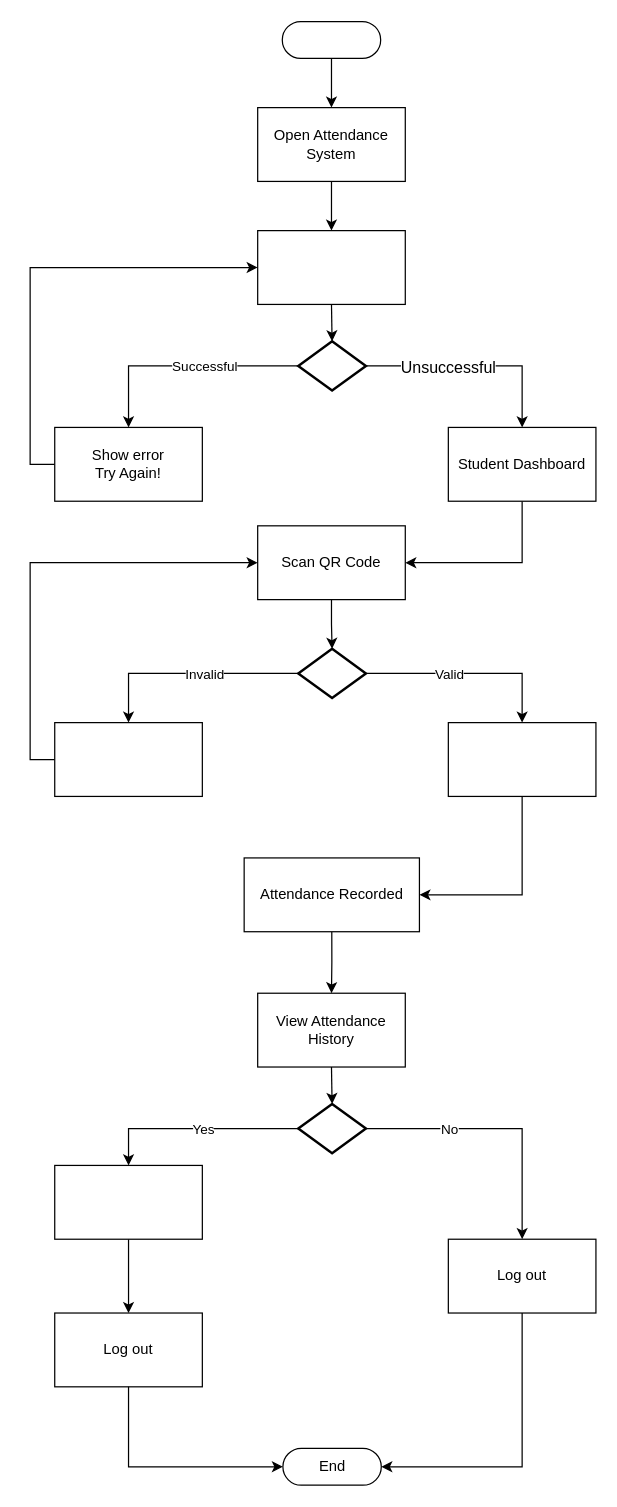
The diagram is 617 pixels wide and 1507 high, and some of its shapes have lost their labels. Here are the shapes that lost their labels. From the top down, the box of each, then its label:
(281, 20, 381, 58): Start
(256, 229, 405, 304): Login
(54, 721, 202, 796): Invalid QR Code Try Again!
(447, 721, 596, 796): Record Attendance
(54, 1164, 202, 1239): Attendance History
